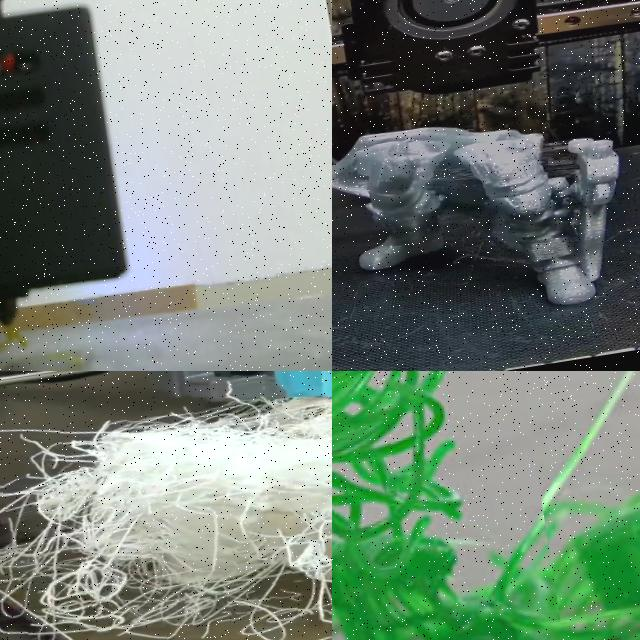spaghetti: (0, 371, 332, 640), (332, 371, 514, 640), (0, 326, 27, 350)
